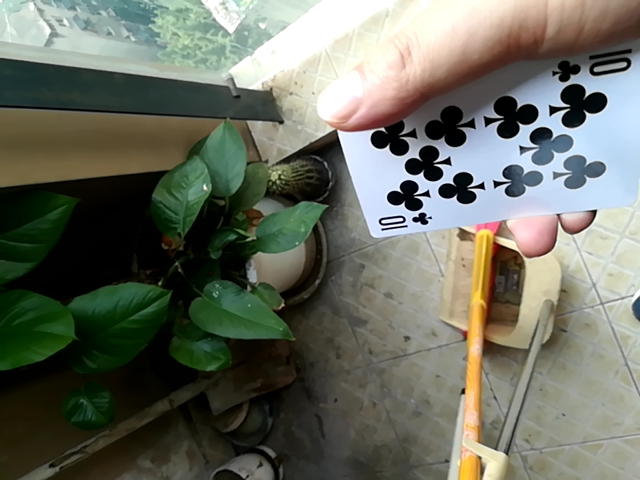mh 10: (327, 52, 640, 245)
